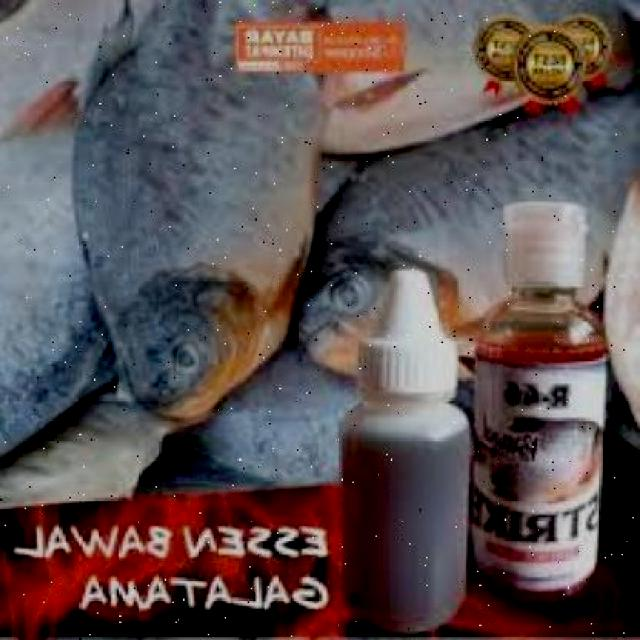ikan-pacu: (63, 0, 328, 431), (289, 102, 640, 380)
